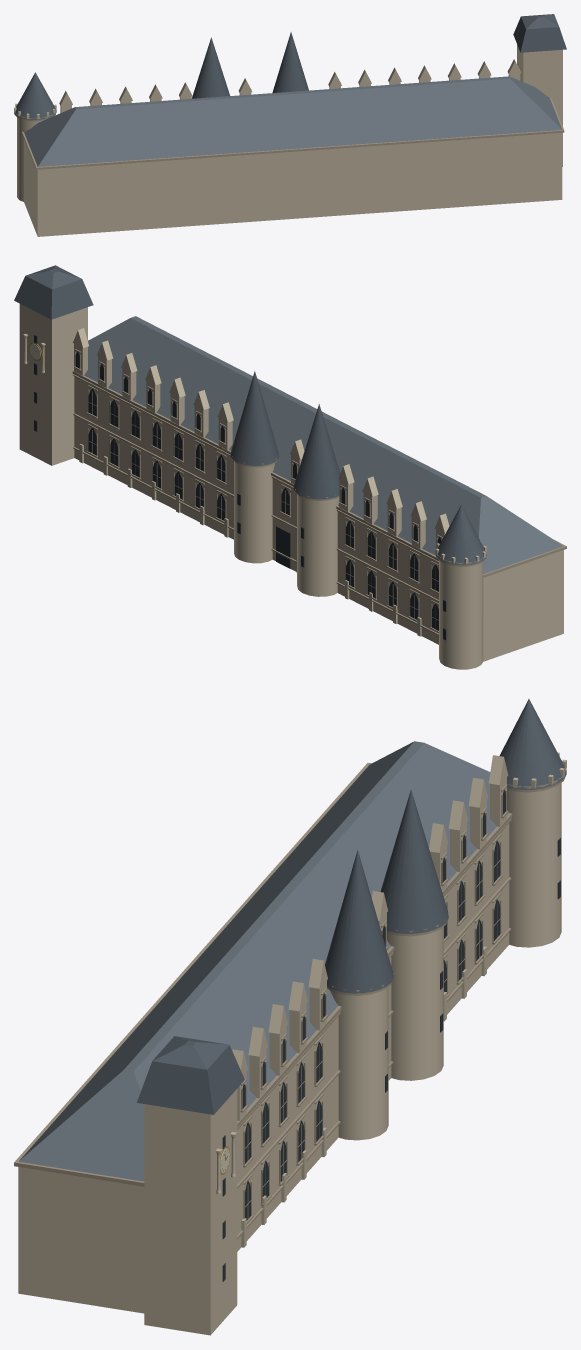
File: paris-conciergerie-near.glb
The picture shows the model from 3 angles, top to bottom: view 1: azimuth 30°, elevation 25°; view 2: azimuth 150°, elevation 25°; view 3: azimuth 270°, elevation 25°; orthographic projection. The views are drawn at different scales.
Parts seen in each view (by area): view 1: paris-conciergerie-0-stone, paris-conciergerie-0-slate, paris-conciergerie-0-roof, paris-conciergerie-0-shade; view 2: paris-conciergerie-0-stone, paris-conciergerie-0-slate, paris-conciergerie-0-roof, paris-conciergerie-0-shade, paris-conciergerie-0-glass; view 3: paris-conciergerie-0-stone, paris-conciergerie-0-slate, paris-conciergerie-0-roof, paris-conciergerie-0-shade, paris-conciergerie-0-glass.
Part boxes in pixels (box(x1,y1,x2,y2)): paris-conciergerie-0-stone: box(14, 44, 562, 236); paris-conciergerie-0-slate: box(24, 76, 562, 166); paris-conciergerie-0-roof: box(14, 14, 566, 119); paris-conciergerie-0-shade: box(14, 98, 564, 169); paris-conciergerie-0-stone: box(19, 304, 563, 669); paris-conciergerie-0-slate: box(84, 316, 563, 573); paris-conciergerie-0-roof: box(14, 265, 486, 565); paris-conciergerie-0-shade: box(72, 349, 566, 635); paris-conciergerie-0-glass: box(34, 335, 446, 640); paris-conciergerie-0-stone: box(18, 752, 566, 1335); paris-conciergerie-0-slate: box(19, 741, 508, 1181); paris-conciergerie-0-roof: box(137, 699, 566, 1171); paris-conciergerie-0-shade: box(14, 763, 566, 1239); paris-conciergerie-0-glass: box(222, 790, 560, 1281).
Bounding box in the file's own units: 179 × 52 × 94.03.
